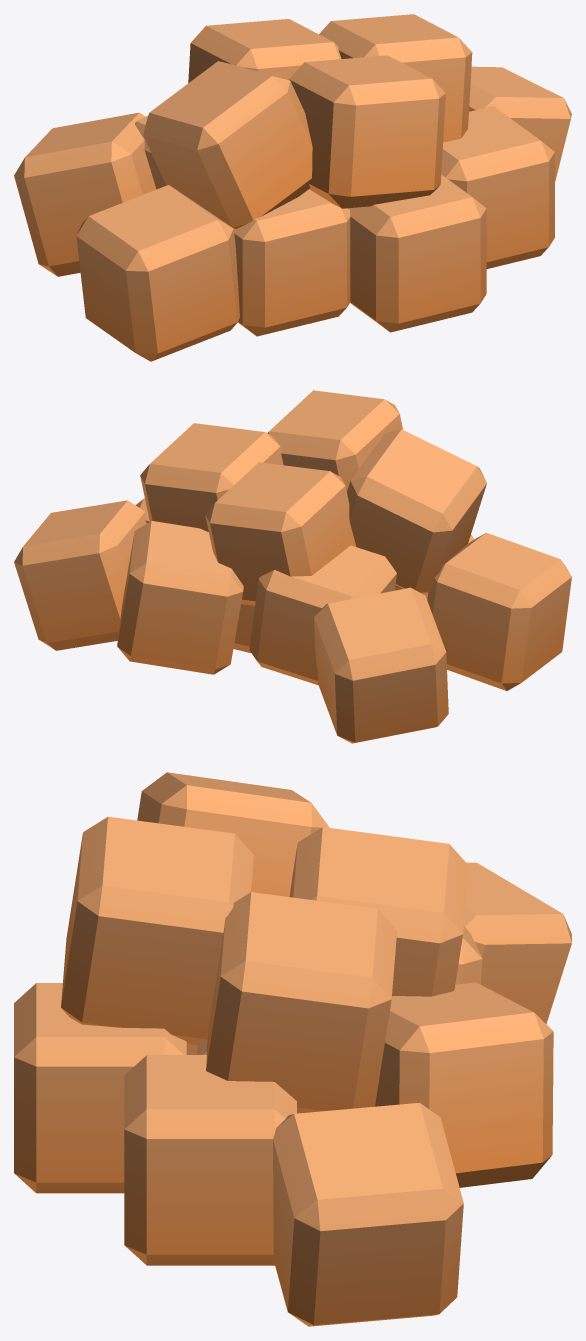
The model's file is Chicken_Meat_01_Sliced.fbx.
The picture shows the model from 3 angles, top to bottom: view 1: azimuth 30°, elevation 25°; view 2: azimuth 150°, elevation 25°; view 3: azimuth 270°, elevation 25°; orthographic projection. The views are drawn at different scales.
Parts seen in each view (by area): view 1: Chicken_Meat_01_Sliced; view 2: Chicken_Meat_01_Sliced; view 3: Chicken_Meat_01_Sliced.
Boxes of the visible parts, left/top/right/bottom form: Chicken_Meat_01_Sliced: left=14, top=14, right=571, bottom=361; Chicken_Meat_01_Sliced: left=14, top=390, right=571, bottom=743; Chicken_Meat_01_Sliced: left=14, top=772, right=571, bottom=1326.
Bounding box in the file's own units: 36.43 × 16.8 × 25.06.
